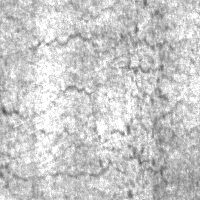crazing: (2, 123, 176, 187), (2, 27, 173, 76), (3, 85, 180, 120)
